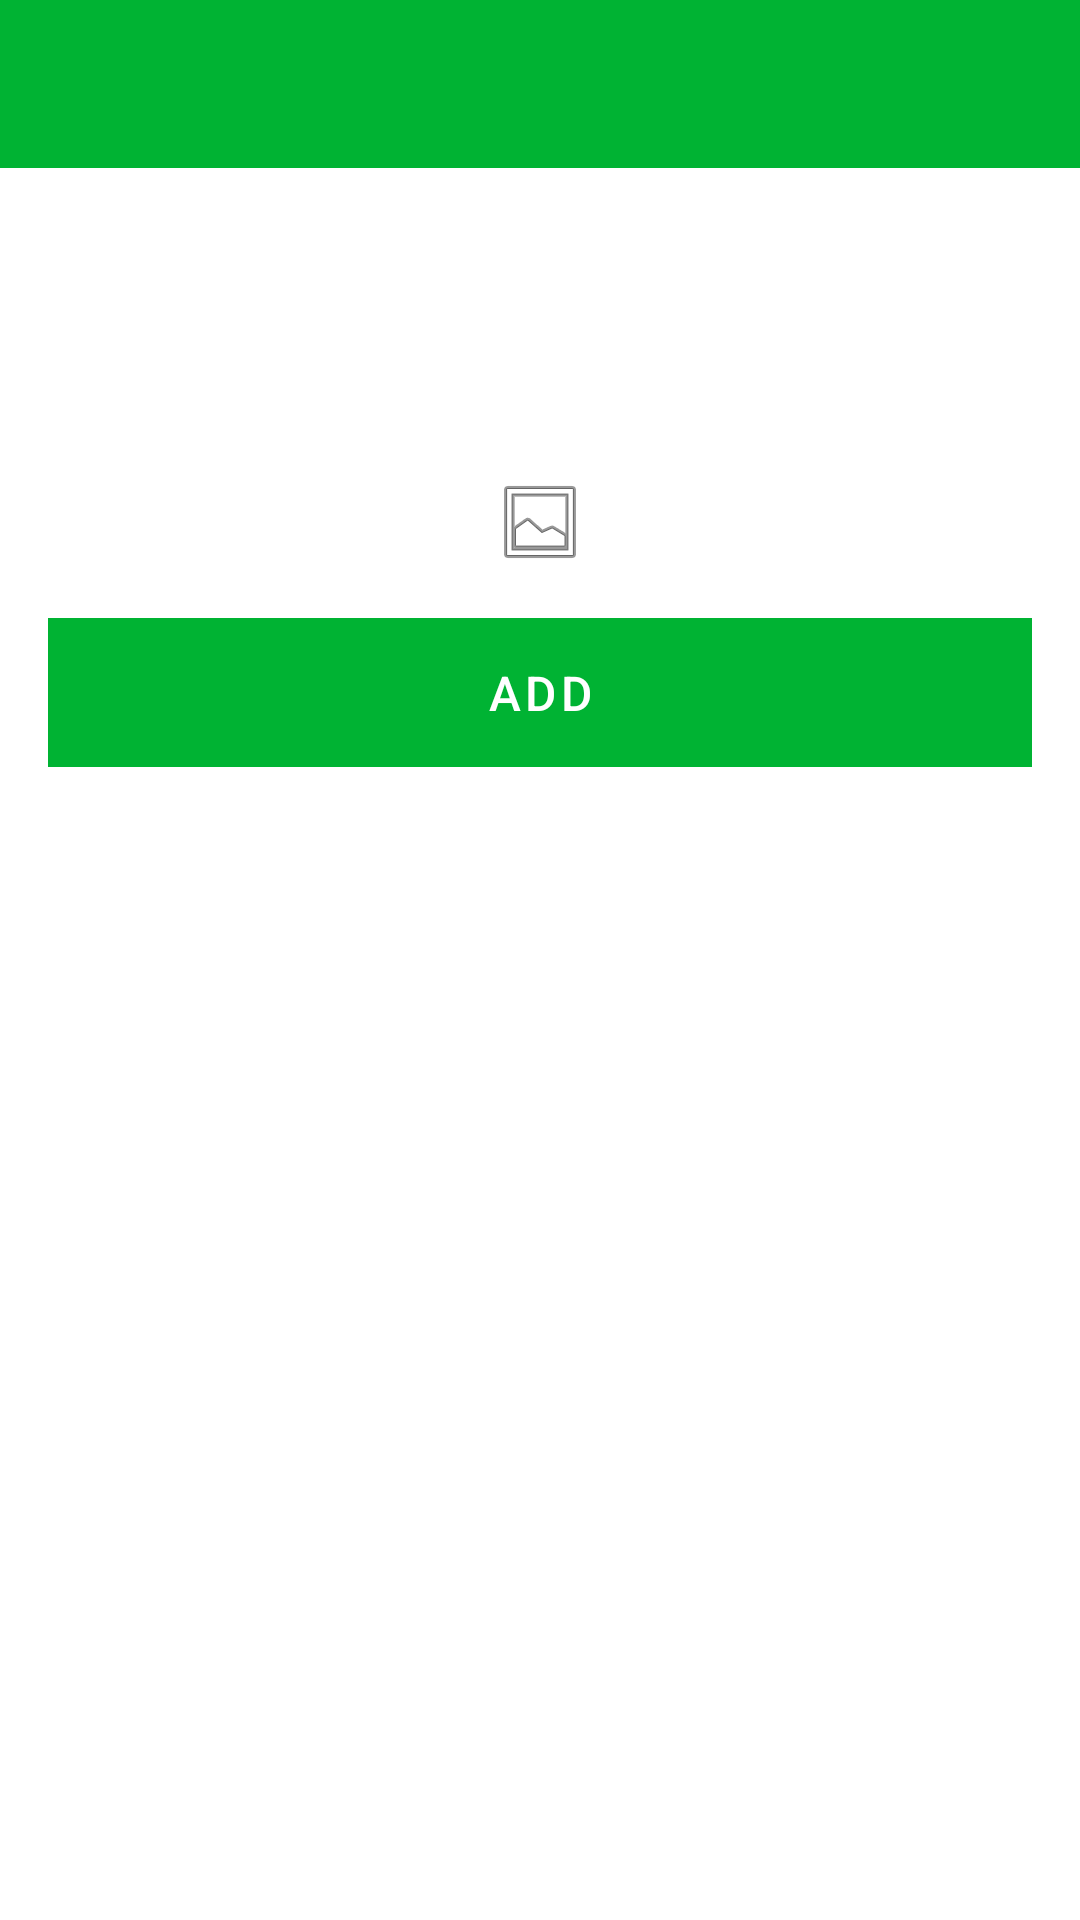

Icon click points for this 1080×1920 phone screenshot, format (x,y):
gallery: (540,522)
